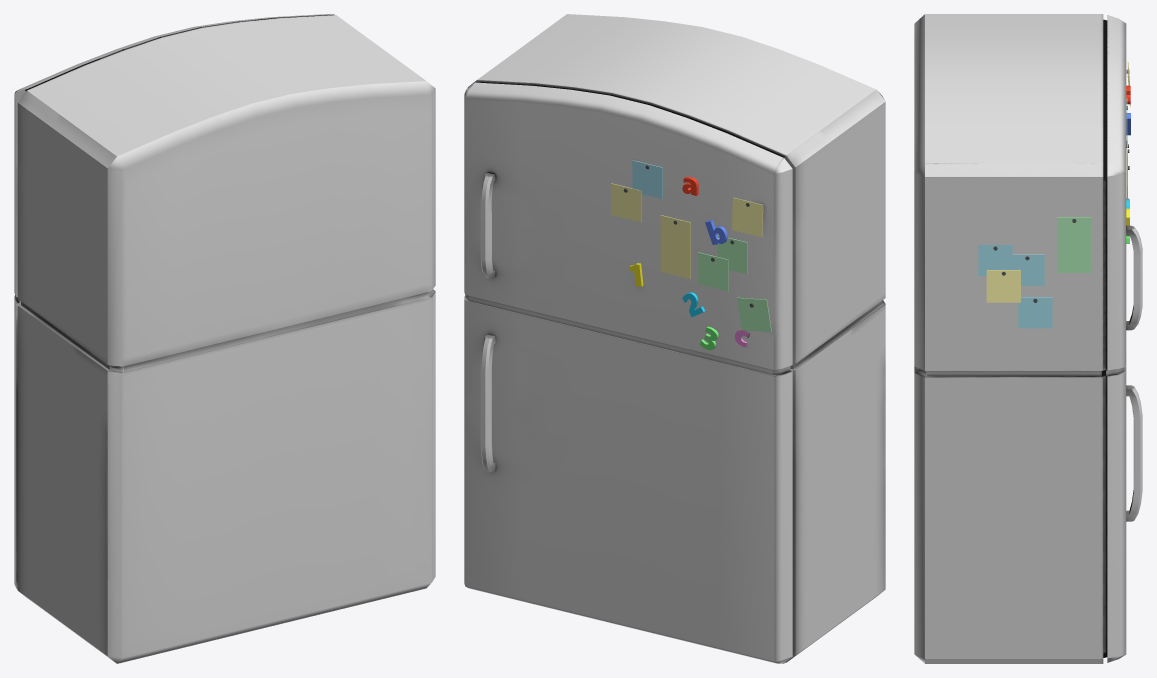
File: fridgeWithMagnets.fbx
The picture shows the model from 3 angles, left to right: view 1: azimuth 30°, elevation 25°; view 2: azimuth 150°, elevation 25°; view 3: azimuth 270°, elevation 25°; orthographic projection.
Parts seen in each view (by area): view 1: fridge; view 2: fridge, fridgeMagnets; view 3: fridge, fridgeMagnets.
Boxes of the visible parts, <box> form: fridge: <box>14,14,435,663</box>; fridge: <box>464,14,885,663</box>; fridgeMagnets: <box>611,160,771,350</box>; fridge: <box>914,14,1142,663</box>; fridgeMagnets: <box>978,61,1130,328</box>.
Size of the model in its own units: 20687 by 31273 by 12412.
Materials: 2 (2 with a texture image).
